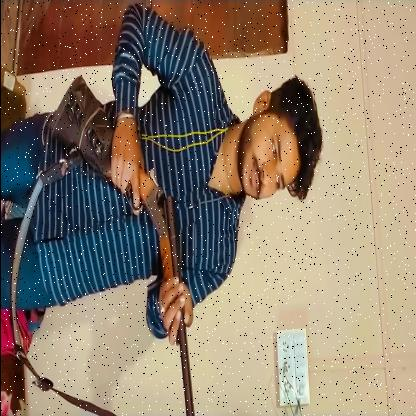rifle: (43, 72, 194, 416)
